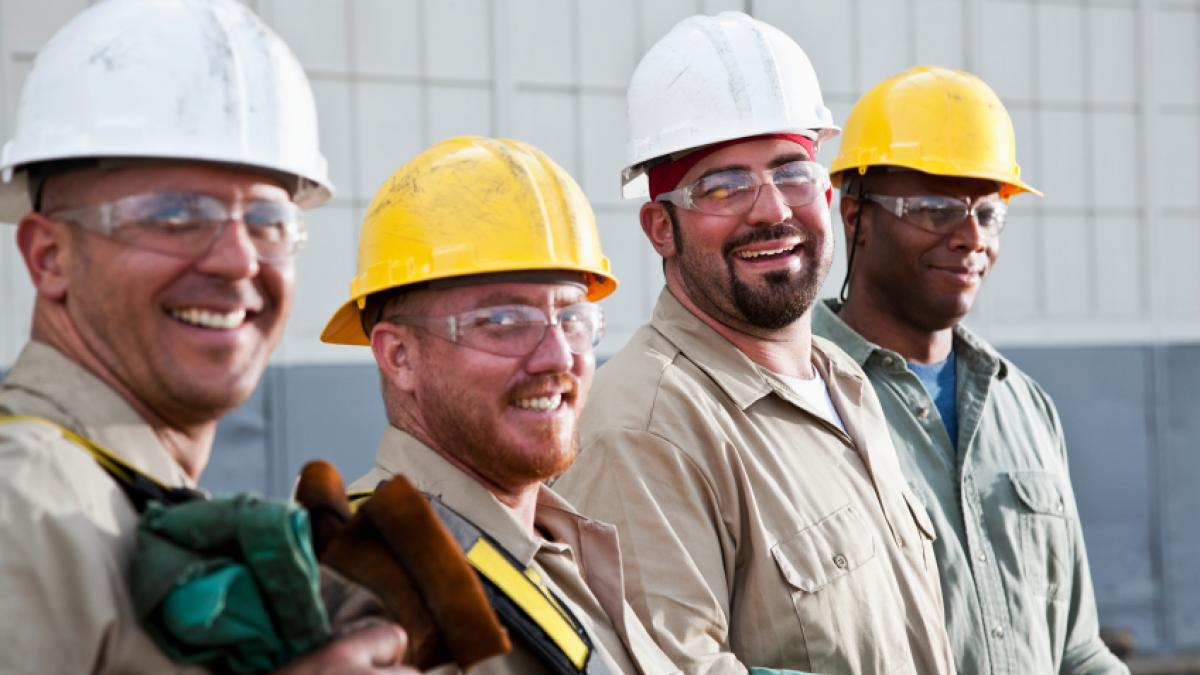Safety Helmet: (3, 2, 323, 432), (326, 107, 609, 490), (606, 9, 853, 369), (833, 37, 1044, 362)
